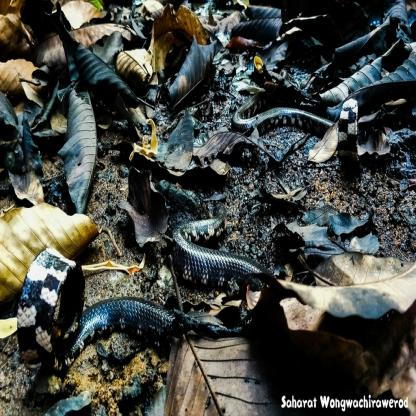Snake: (19, 247, 259, 361)
